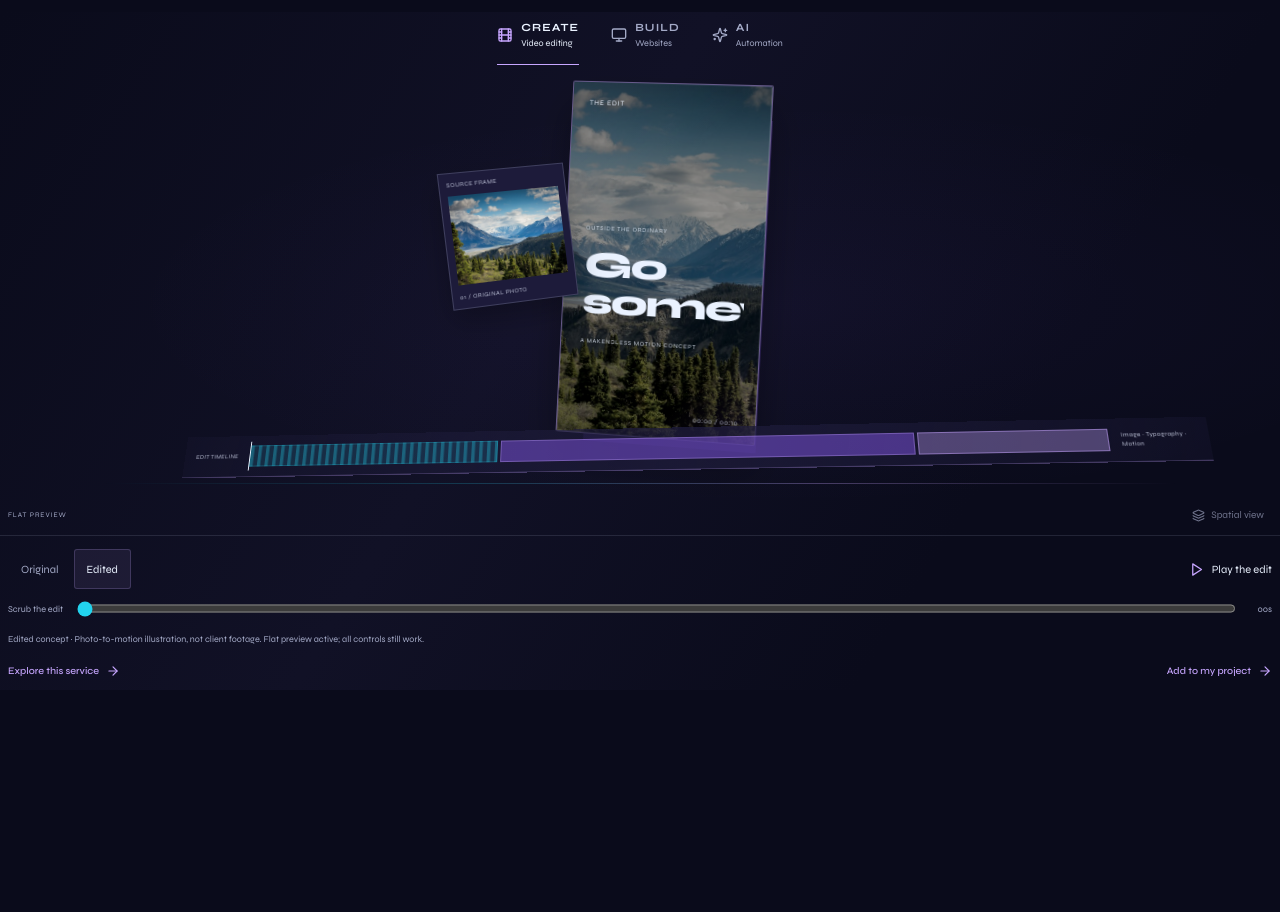
Scenario: Living Showcase: service-led interactions and fallbacks › recovers from a thrown scene error without disabling service controls
Expected: the message named "Showcase feedback" shows "Flat preview active", 262,634 -> 424,644
Click the button "AI Automation" at (747, 38), box 712,12 -> 783,65
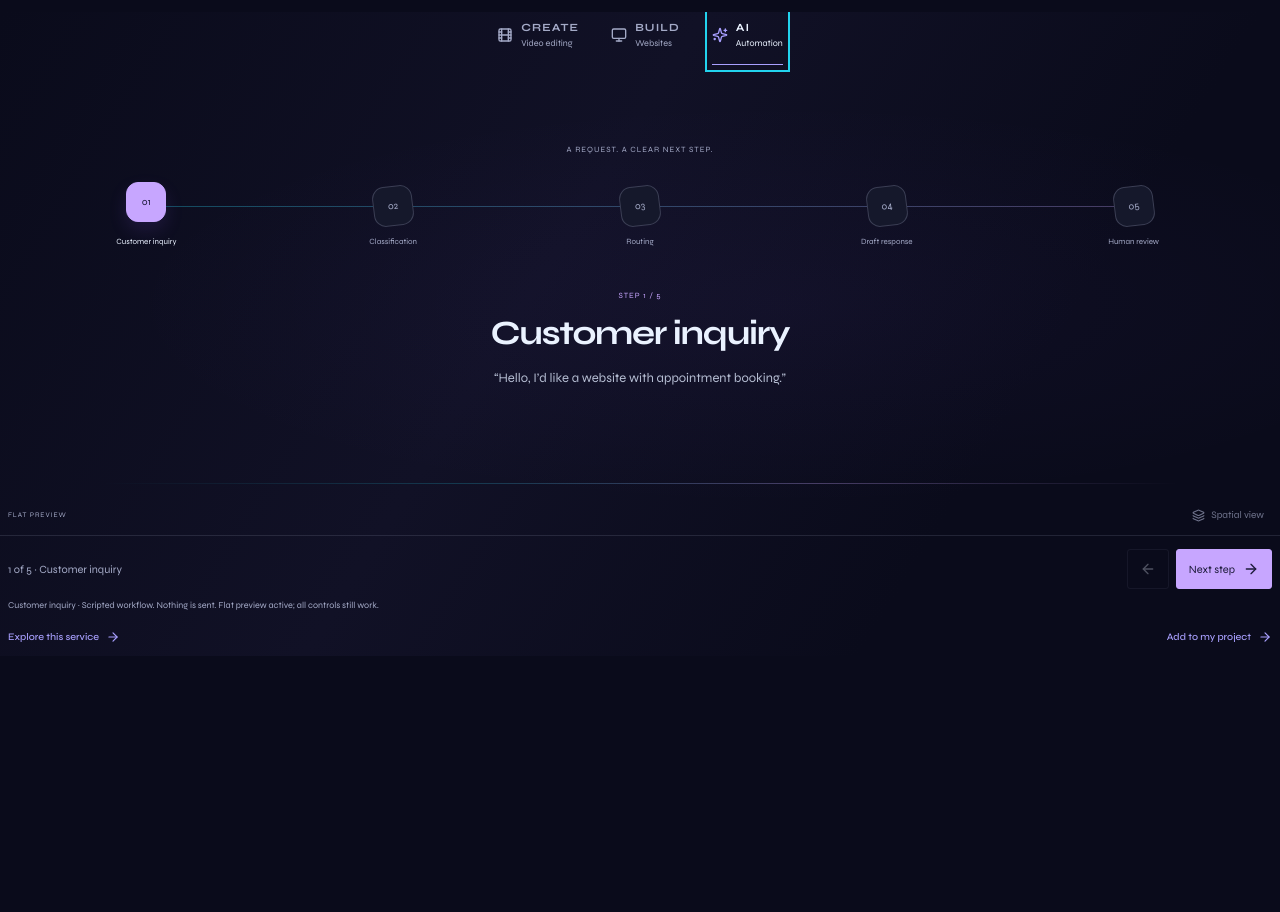
Now the button "Next step" is shown, box 1176,549 -> 1272,589
